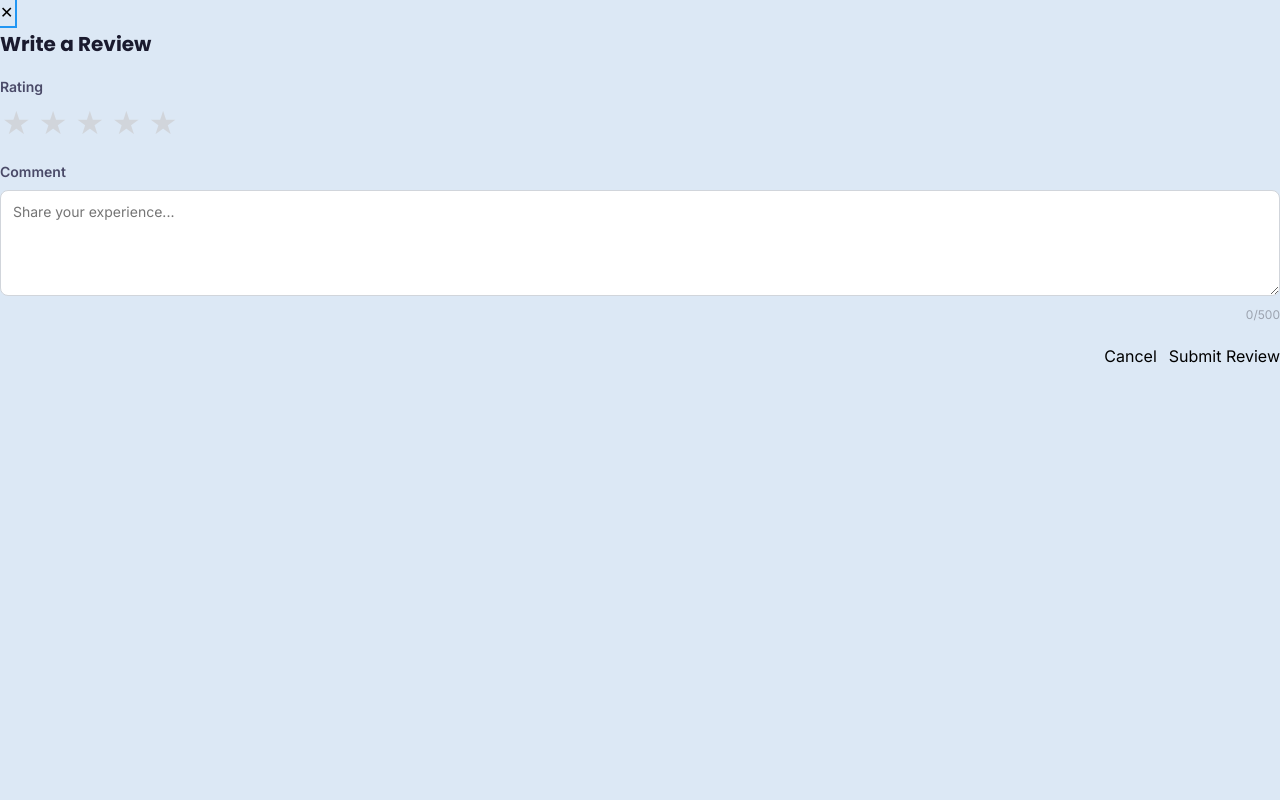
Test: AddReviewModal › shows error when Submit clicked without rating
Click the button with test id "add-review-modal-submit": (1224, 356) [1169, 344, 1279, 368]
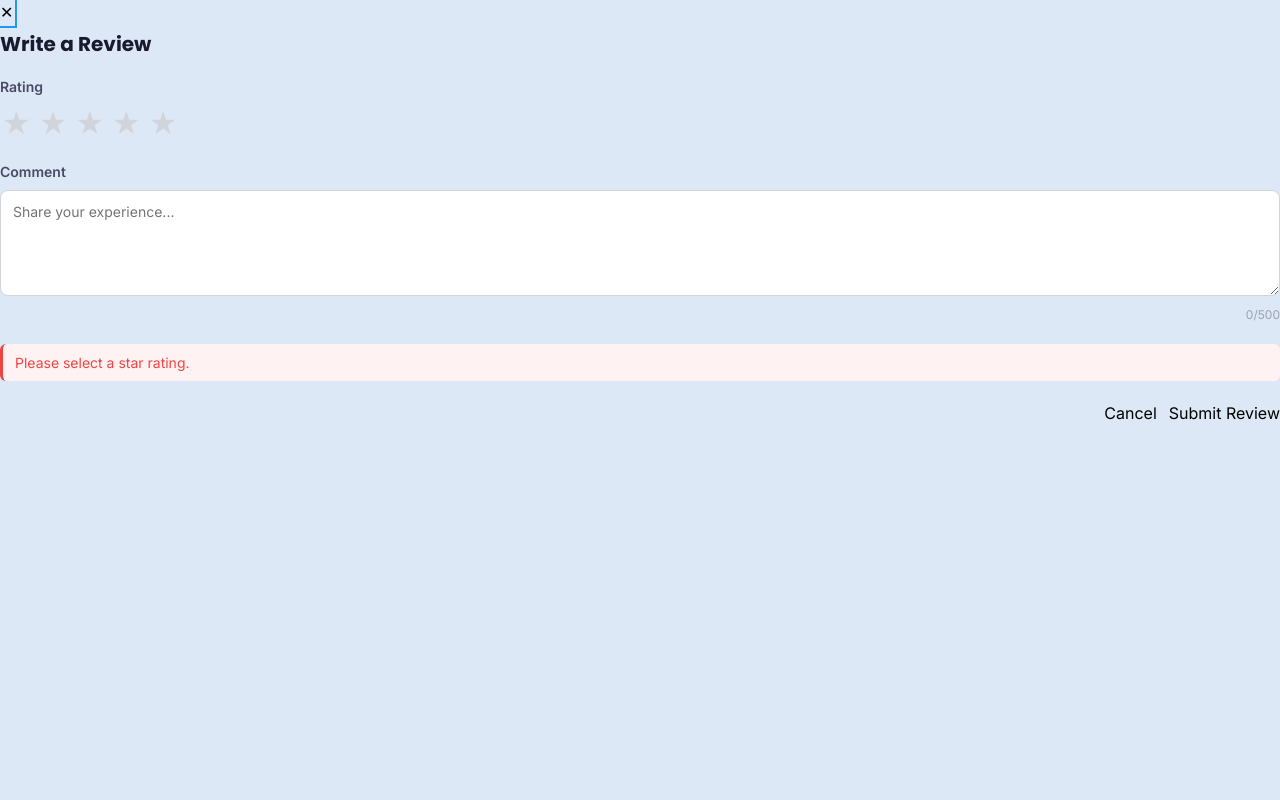
Check: the text with test id "add-review-modal-error" reads "Please select a star rating.", box [15, 354, 190, 371]
